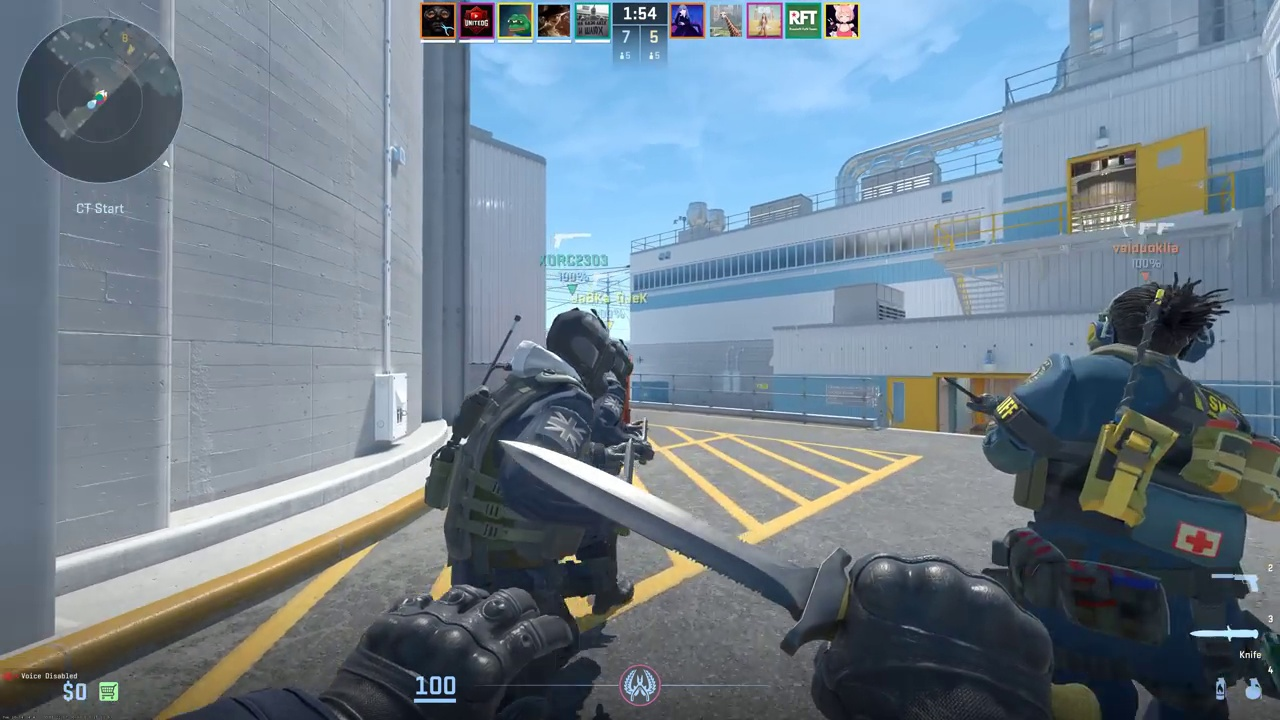CT: (991, 283, 1259, 720), (455, 310, 634, 626)
